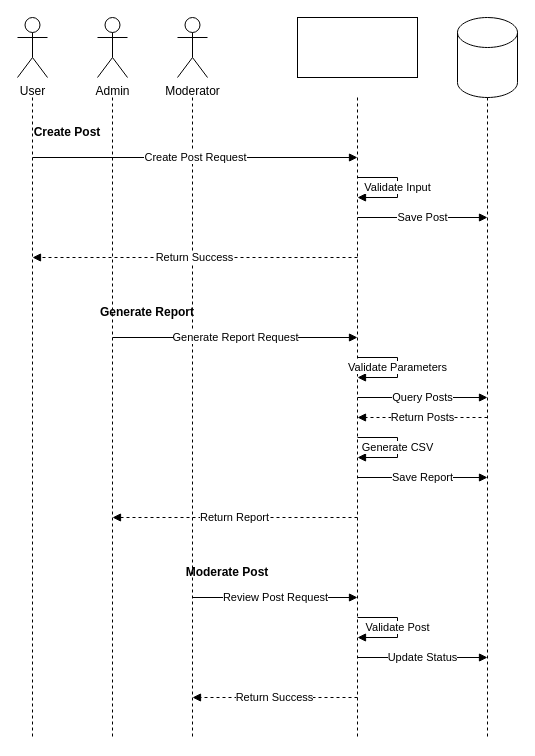
Image size: 535x756. Some labels were removed from this diagram. Each missing label, with the centre of its shape:
"Database" belongs at point (487, 57).
"System" belongs at point (357, 47).
